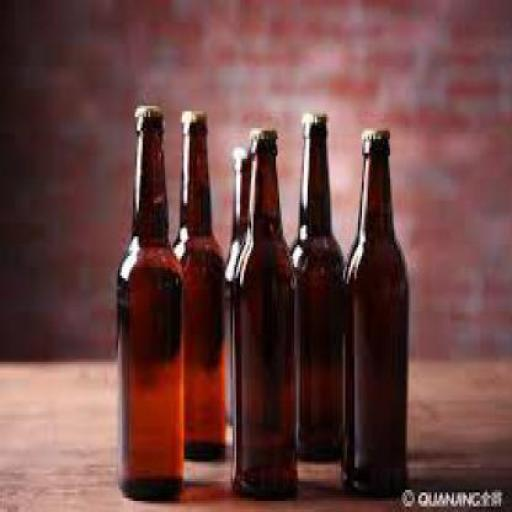glass: (114, 114, 186, 495), (339, 133, 406, 493), (230, 138, 297, 496), (171, 122, 227, 460), (291, 122, 342, 460), (223, 156, 252, 429)
metal: (250, 125, 276, 145), (358, 125, 388, 142), (176, 108, 203, 126), (298, 110, 325, 126), (130, 103, 159, 114), (231, 142, 249, 156)
